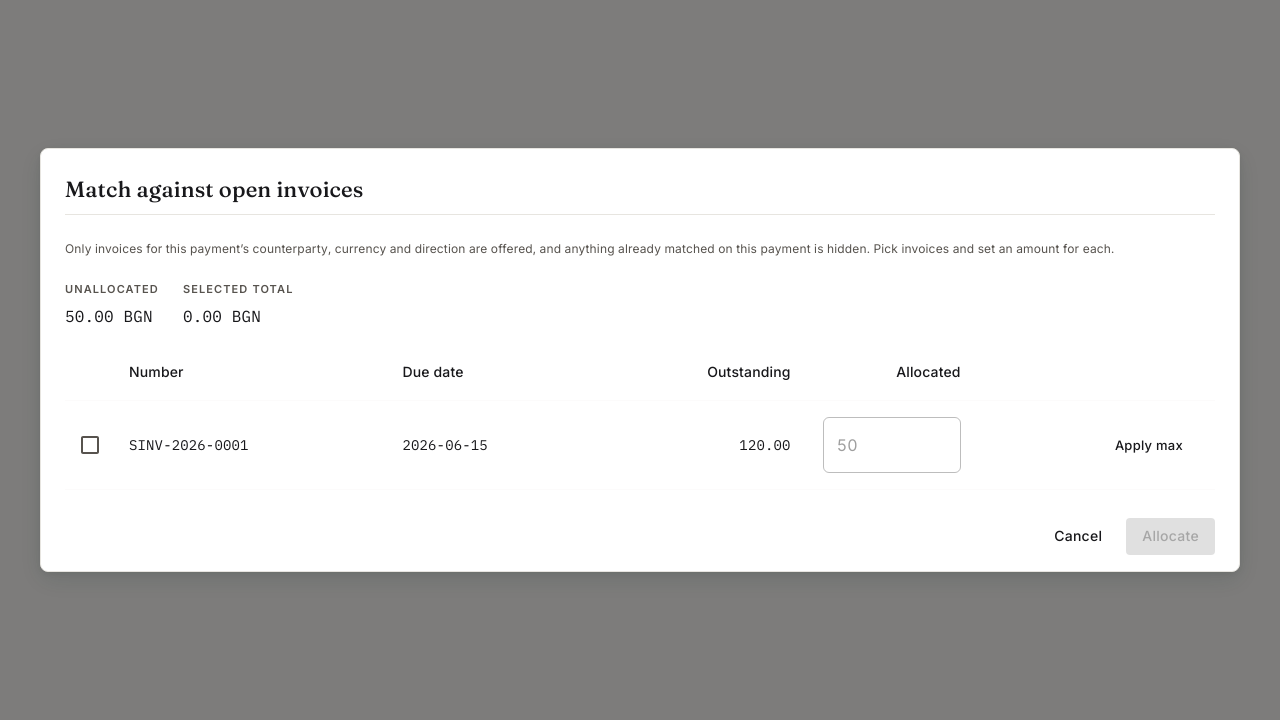
AllocatePaymentDialog (SDD-UI-FIN-002 §2.11) › blocks an over-allocation client-side before any request, with exact two-decimal bounds
Click the checkbox named "SINV-2026-0001": [90, 445] box [78, 433, 102, 457]
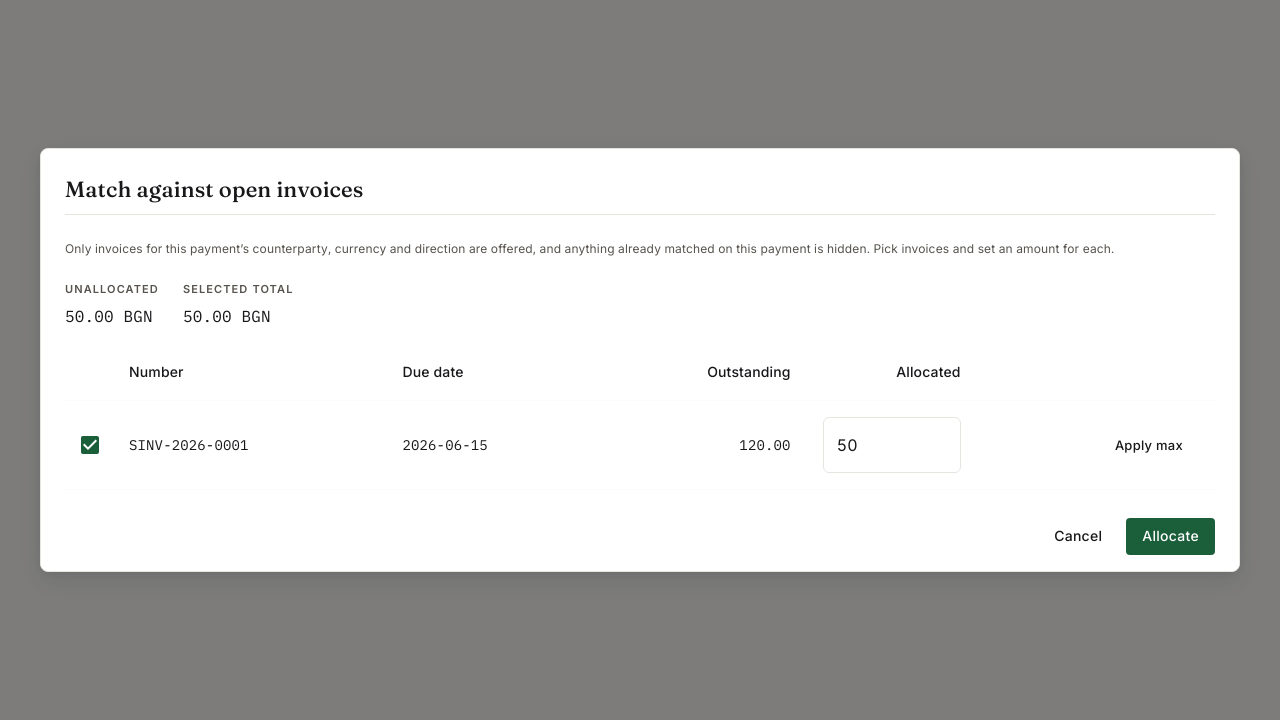
Clear the number field showing "50": [892, 445] box [823, 417, 961, 473]
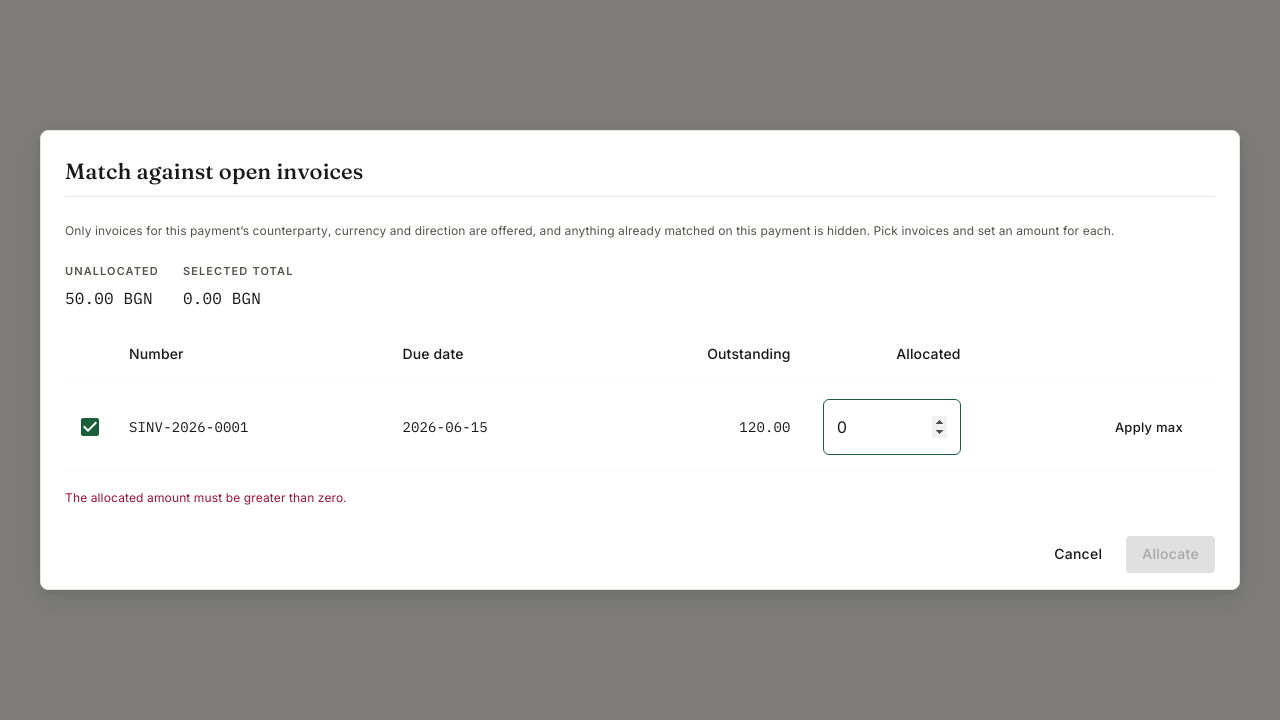
In the number field showing "50": [892, 427] box [823, 399, 961, 455], type "50.01"
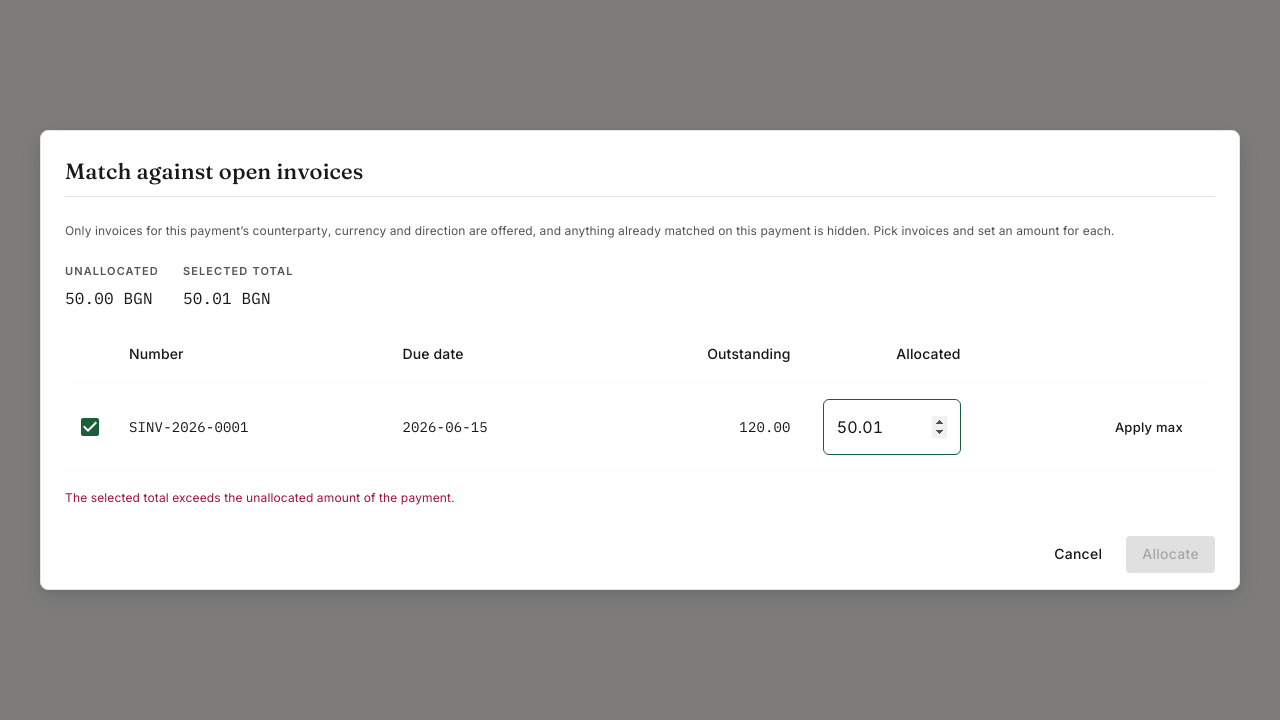
Expected: the button "Allocate" is disabled, [1126, 536, 1215, 573]
Expected: the text "The selected total exceeds the unallocated amount of the payment." is shown, [65, 490, 455, 505]
